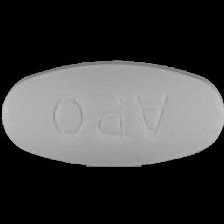0615-8009: (0, 0, 224, 224)
